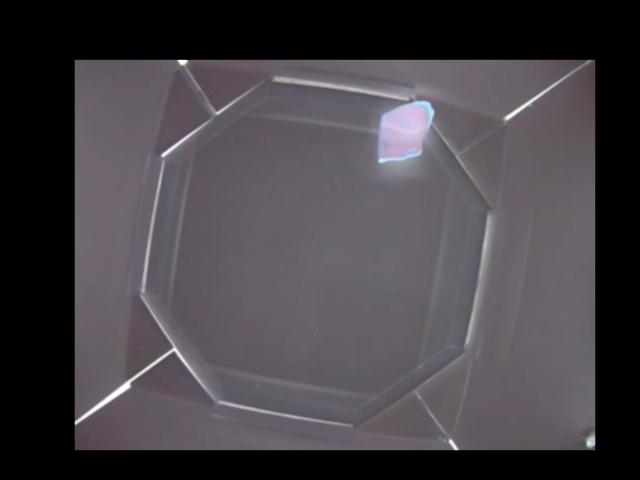China: (374, 100, 437, 166)
